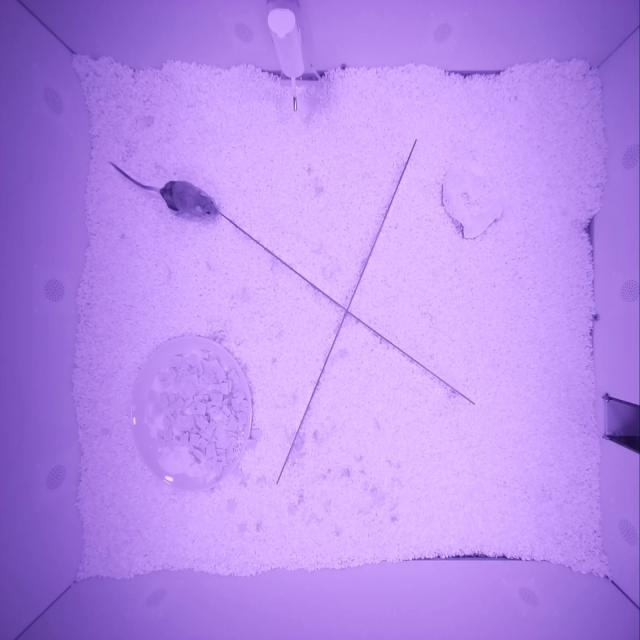adult_back: (160, 180, 220, 218)
